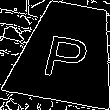P_N: (39, 24, 95, 81)
